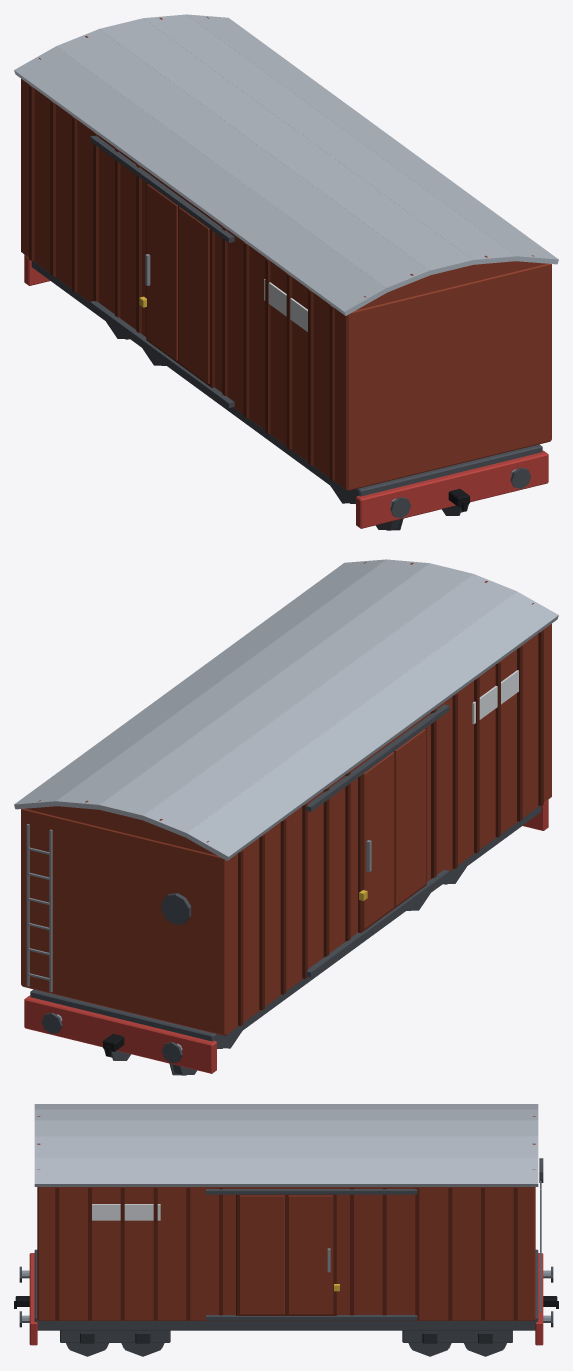
File: wagon_fret.glb
3 renders of one model, top to bottom at view 1: azimuth 30°, elevation 25°; view 2: azimuth 150°, elevation 25°; view 3: azimuth 270°, elevation 25°, orthographic. The views are drawn at different scales.
Parts seen in each view (by area): view 1: pieces_fret.002, pieces_gris_clair.002, pieces_fret_sombre.002, pieces_acier_sombre.008, pieces_rouge.006, pieces_blanc.006; view 2: pieces_fret.002, pieces_gris_clair.002, pieces_fret_sombre.002, pieces_acier_sombre.008, pieces_rouge.006, pieces_acier.008, pieces_blanc.006; view 3: pieces_fret.002, pieces_gris_clair.002, pieces_acier_sombre.008, pieces_fret_sombre.002, pieces_rouge.006, pieces_blanc.006, roues_ar_acier_sombre.008, roues_av_acier_sombre.008, pieces_fonte.008, pieces_acier.008, pieces_noir.008.
Part boxes in pixels (left/top/right/bottom): pieces_fret.002: left=21, top=17, right=551, bottom=490; pieces_gris_clair.002: left=14, top=14, right=558, bottom=315; pieces_fret_sombre.002: left=29, top=85, right=334, bottom=481; pieces_acier_sombre.008: left=31, top=135, right=542, bottom=518; pieces_rouge.006: left=24, top=254, right=548, bottom=528; pieces_blanc.006: left=264, top=279, right=307, bottom=331; pieces_fret.002: left=21, top=562, right=551, bottom=1035; pieces_gris_clair.002: left=14, top=559, right=558, bottom=860; pieces_fret_sombre.002: left=238, top=630, right=543, bottom=1026; pieces_acier_sombre.008: left=30, top=704, right=541, bottom=1063; pieces_rouge.006: left=24, top=799, right=548, bottom=1073; pieces_acier.008: left=26, top=824, right=371, bottom=1050; pieces_blanc.006: left=472, top=670, right=518, bottom=724; pieces_fret.002: left=37, top=1116, right=535, bottom=1320; pieces_gris_clair.002: left=34, top=1104, right=538, bottom=1186; pieces_acier_sombre.008: left=19, top=1158, right=553, bottom=1342; pieces_fret_sombre.002: left=55, top=1187, right=517, bottom=1320; pieces_rouge.006: left=29, top=1253, right=543, bottom=1345; pieces_blanc.006: left=92, top=1204, right=160, bottom=1220; roues_ar_acier_sombre.008: left=408, top=1343, right=506, bottom=1356; roues_av_acier_sombre.008: left=66, top=1343, right=164, bottom=1356; pieces_fonte.008: left=80, top=1332, right=492, bottom=1343; pieces_acier.008: left=22, top=1180, right=550, bottom=1322; pieces_noir.008: left=14, top=1296, right=558, bottom=1308.
Size of the model in its own units: 1.96 by 2.37 by 5.41.
